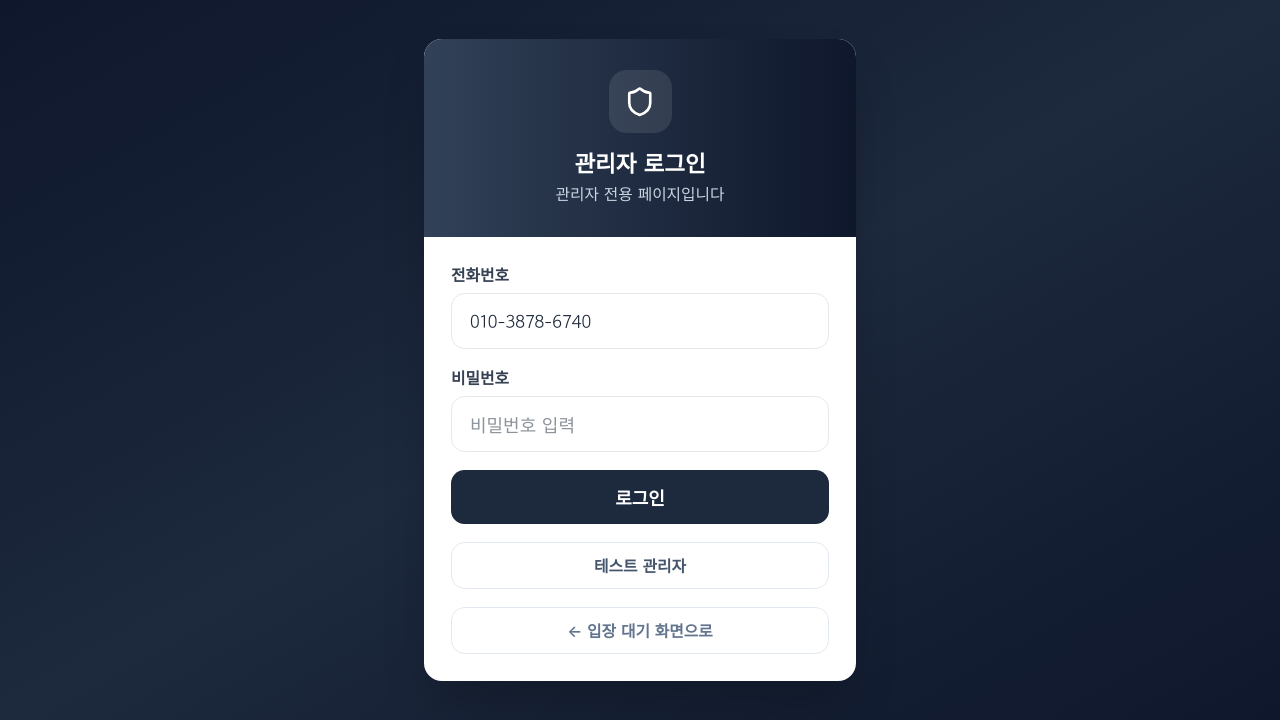
Test: LoginScreen 테스트 관리자 › fills phone only, does not submit, and does not use a retired public password
The width and height of the screenshot is (1280, 720).
Expected: the field showing "010-3878-6740" is shown, [451, 293, 829, 349]
Click the button "테스트 관리자" at (640, 566), box [451, 542, 829, 589]
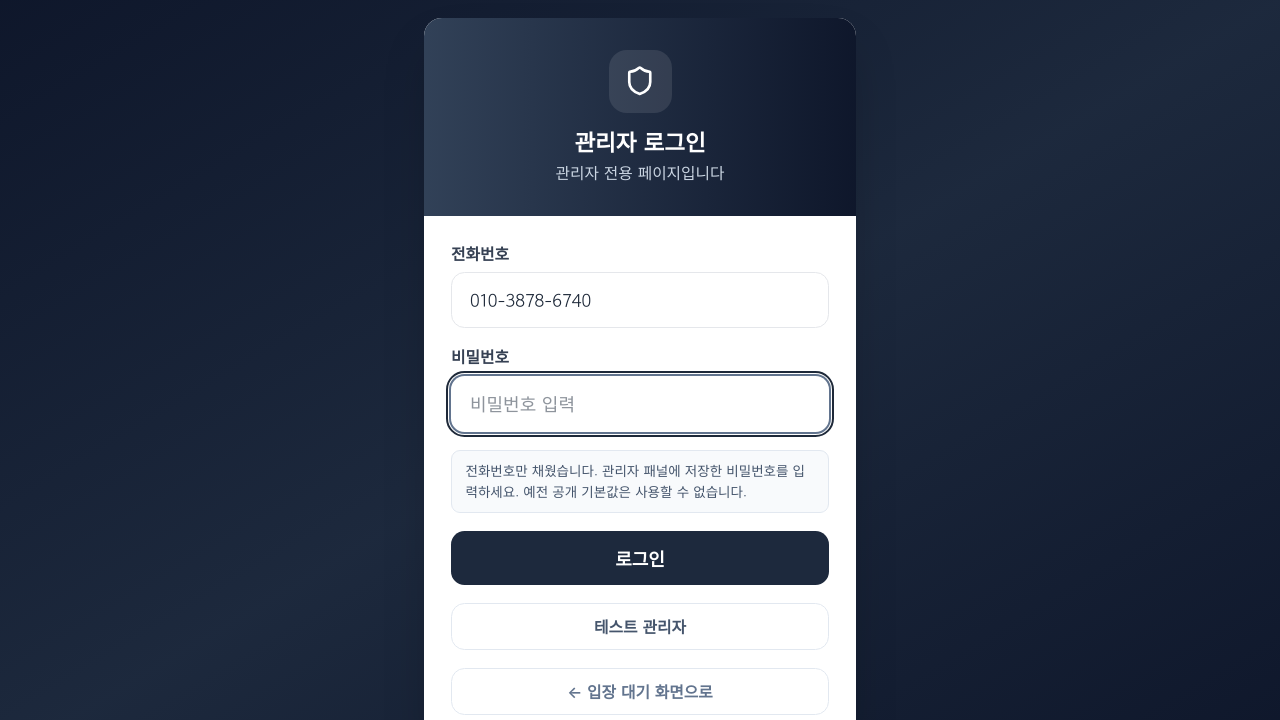
Expected: the password field with placeholder "비밀번호 입력" is empty, [451, 376, 829, 432]
Expected: the text "전화번호만 채웠습니다. 관리자 패널에 저장한 비밀번호를 입력하세요. 예전 공개 기본값은 사용할 수 없습니다." is shown, [451, 450, 829, 513]
